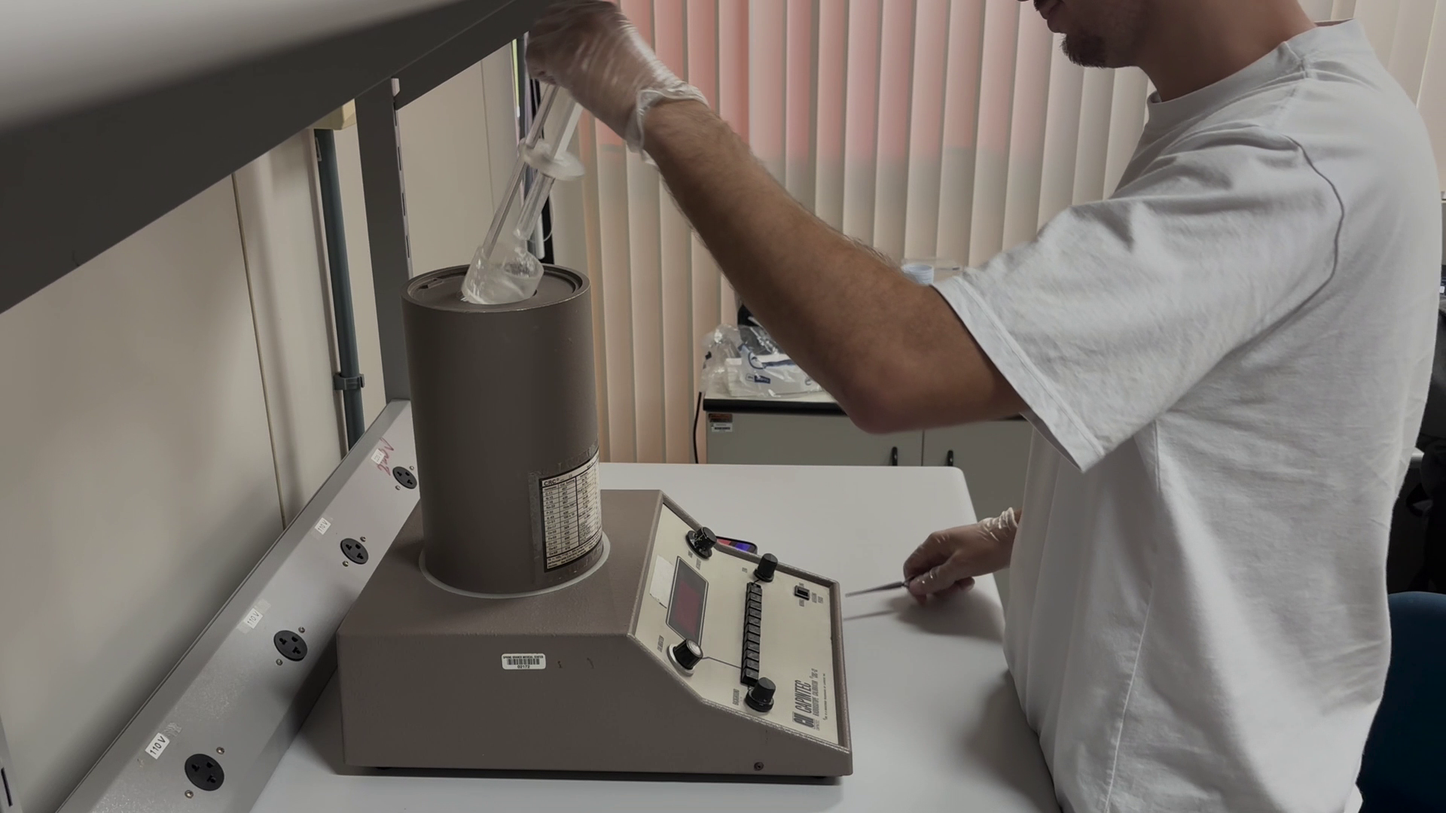Ativimetro: (399, 247, 610, 586)
Cesta: (459, 74, 583, 315)
Com_Luva: (523, 2, 706, 159), (900, 505, 1020, 617)
